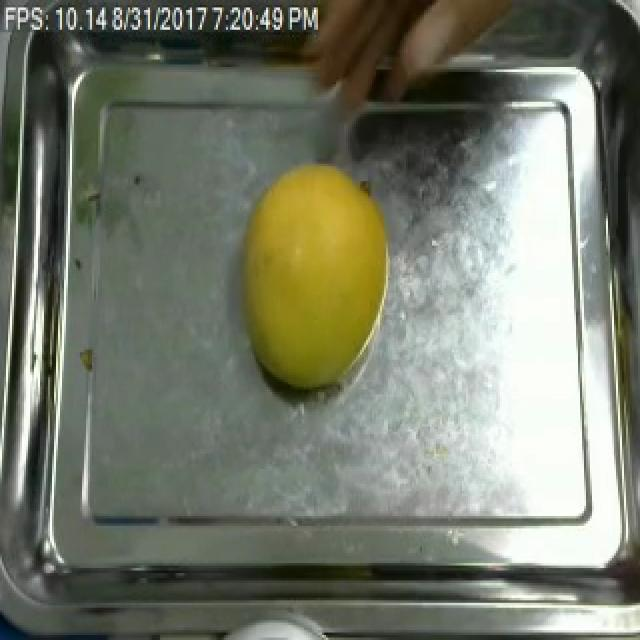fruit: (228, 146, 404, 404)
